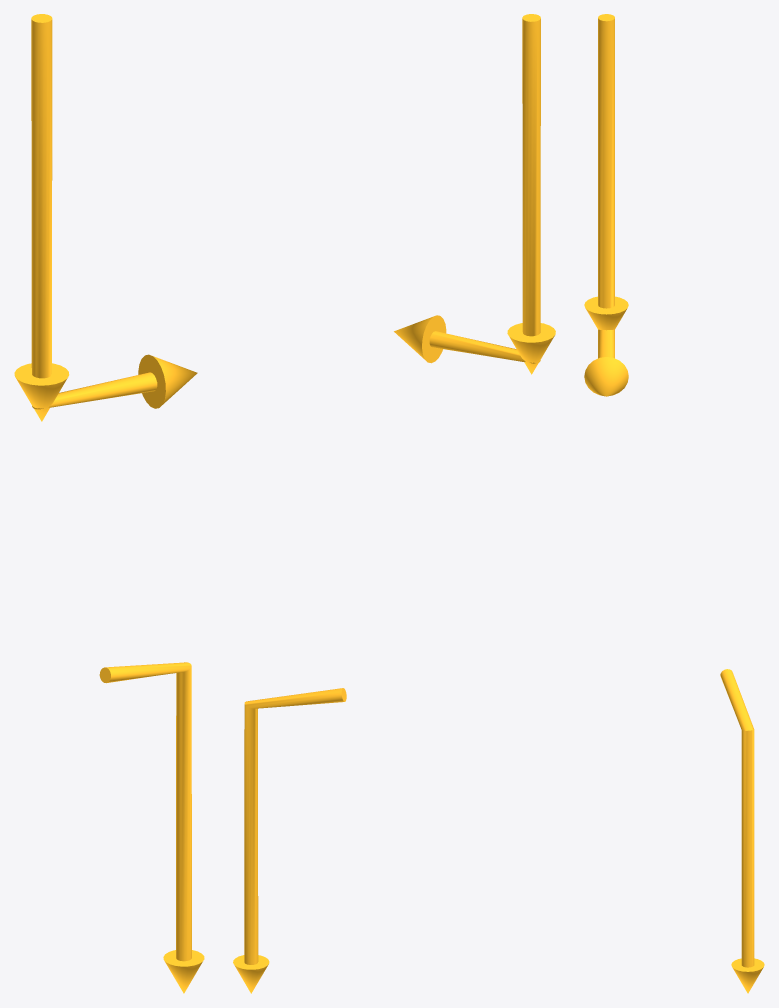
Rendered from journal_bearing_flow.glb.
The picture shows the model from 3 angles, left to right: view 1: azimuth 30°, elevation 25°; view 2: azimuth 150°, elevation 25°; view 3: azimuth 270°, elevation 25°; orthographic projection. The views are drawn at different scales.
Visible parts, largest first — view 1: oil_in, side_leakage; view 2: oil_in, side_leakage; view 3: oil_in, side_leakage.
Part boxes in pixels (box(x1,y1,x2,y2)): oil_in: box(14, 14, 197, 421); side_leakage: box(99, 662, 204, 993); oil_in: box(394, 14, 555, 374); side_leakage: box(233, 688, 346, 993); oil_in: box(584, 14, 628, 396); side_leakage: box(720, 669, 764, 993).
Bounding box in the file's own units: 0.1182 × 0.456 × 0.0842.
